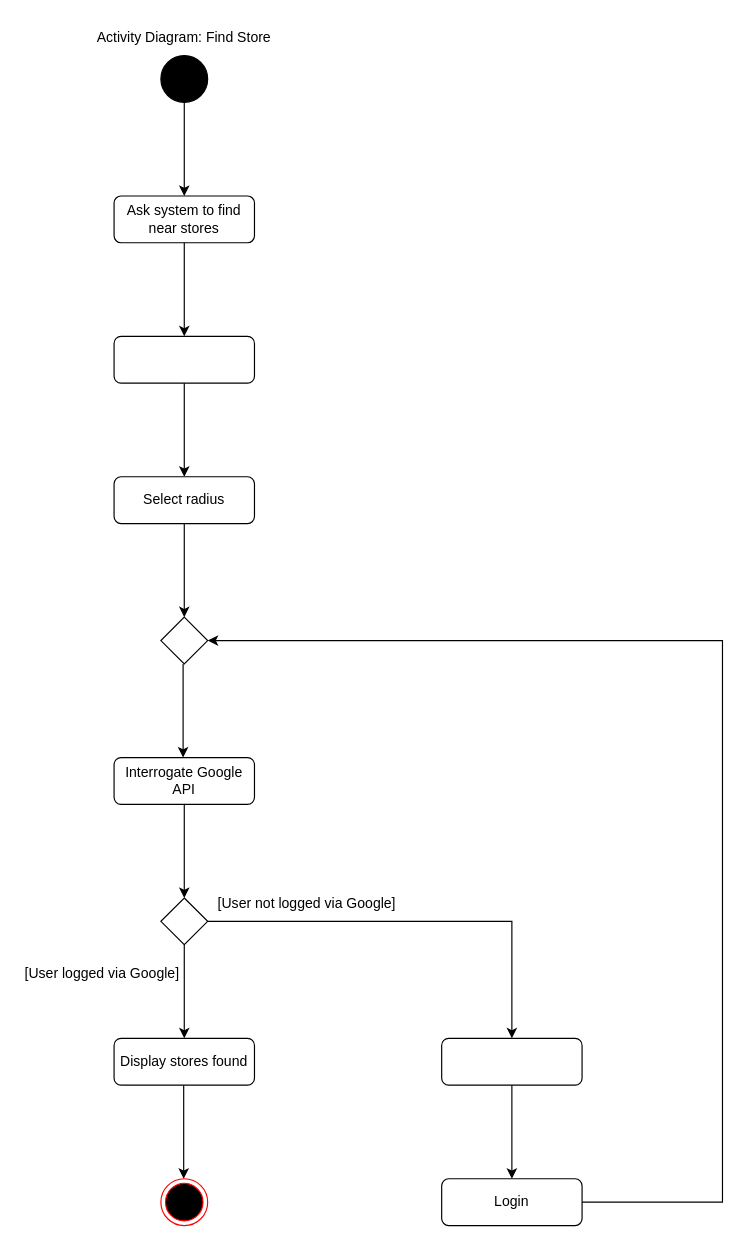
This 752x1246 diagram has some shape labels left out. The shapes that lost their labels are listed below. From the top down, each one's centre as x and y in pixels, then its label:
At point (183, 359): "Select position".
At point (511, 1061): "Display Google login".
